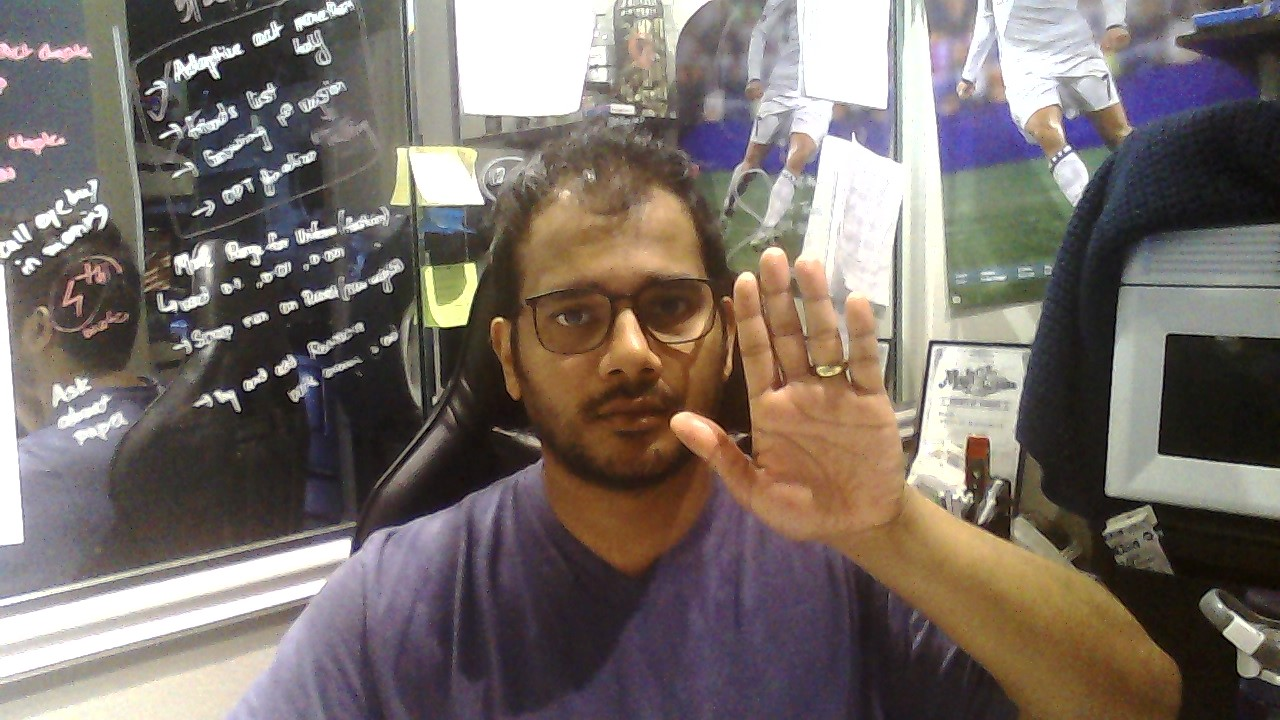Hello: (669, 247, 904, 536)
